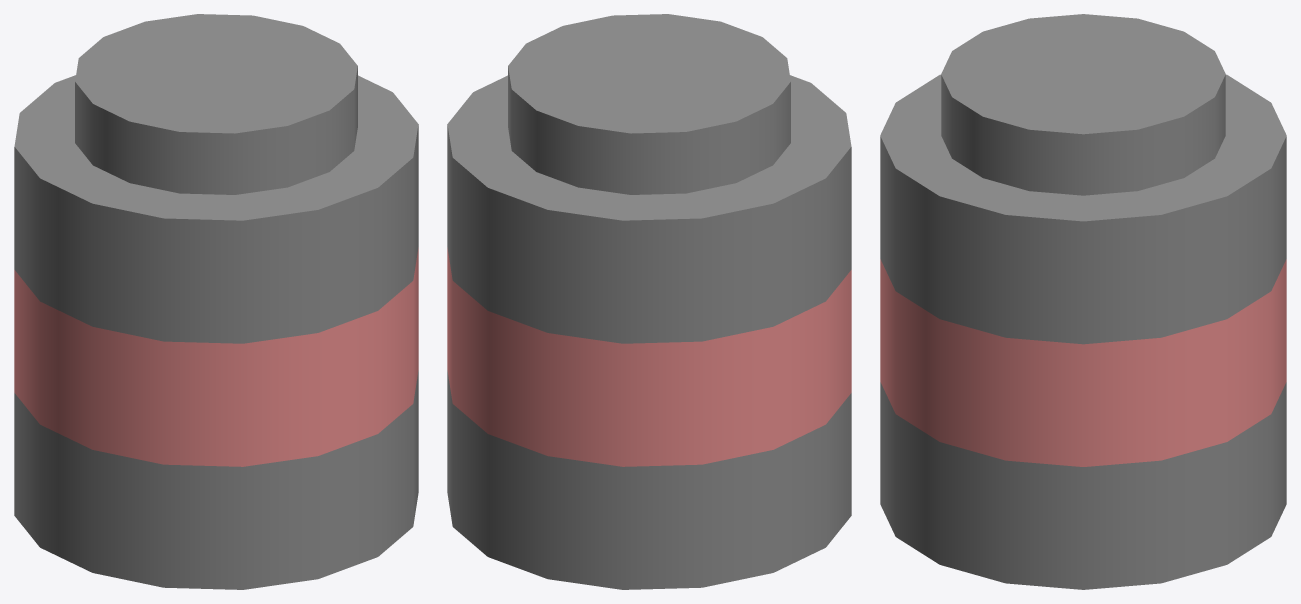
File: SM_TargetMarker_1x1x1.gltf
3 views of the same model, side by side, from view 1: azimuth 30°, elevation 25°; view 2: azimuth 150°, elevation 25°; view 3: azimuth 270°, elevation 25° (orthographic).
Visible parts, largest first — view 1: SM_TargetMarker_1x1x1; view 2: SM_TargetMarker_1x1x1; view 3: SM_TargetMarker_1x1x1.
Part boxes in pixels (x1,y1,x2,y2): SM_TargetMarker_1x1x1: (14, 14, 418, 589); SM_TargetMarker_1x1x1: (447, 14, 851, 589); SM_TargetMarker_1x1x1: (880, 14, 1286, 589).
Size of the model in its own units: 0.3 by 0.35 by 0.3.
